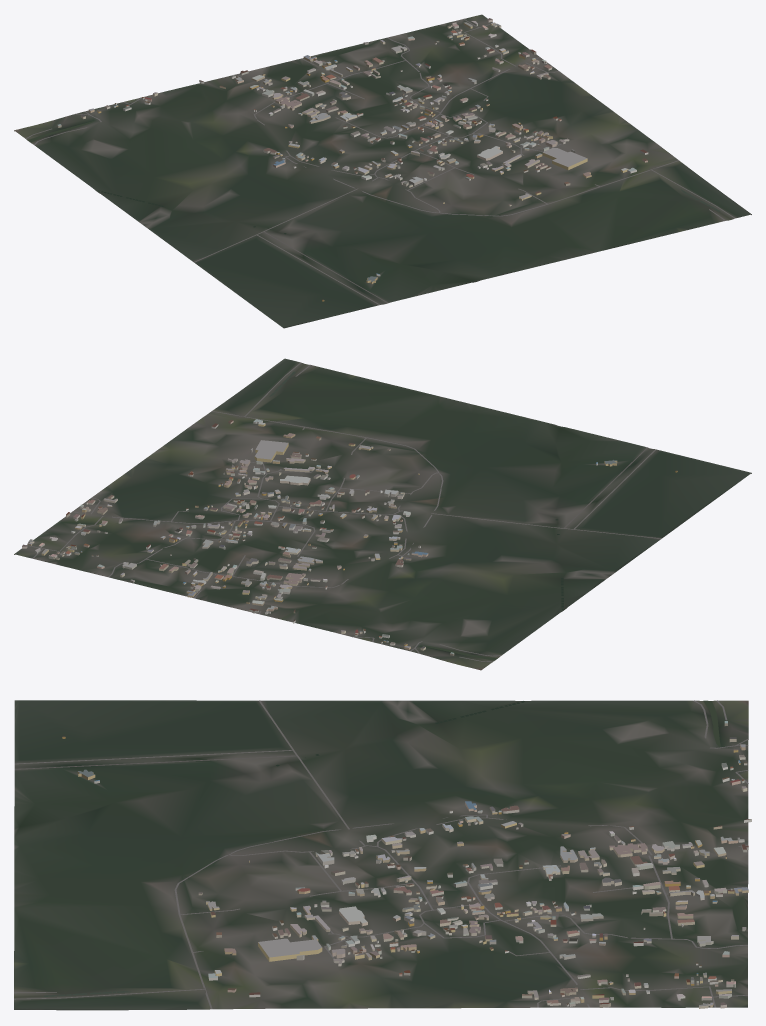
3 views of the same model, one above another, from view 1: azimuth 30°, elevation 25°; view 2: azimuth 150°, elevation 25°; view 3: azimuth 270°, elevation 25° (orthographic). The views are drawn at different scales.
Parts seen in each view (by area): view 1: ground, buildings, roads; view 2: ground, buildings, roads; view 3: ground, buildings, roads, water.
Part boxes in pixels (box(x1,y1,x2,y2)): ground: box(14, 14, 751, 328); buildings: box(57, 18, 648, 301); roads: box(25, 19, 735, 304); ground: box(14, 358, 751, 670); buildings: box(22, 419, 677, 655); roads: box(27, 362, 661, 661); ground: box(14, 700, 748, 1010); buildings: box(62, 721, 751, 1008); roads: box(14, 700, 748, 1009); water: box(43, 700, 720, 996).
Bounding box in the file's own units: 1405 × 17.54 × 1408.
